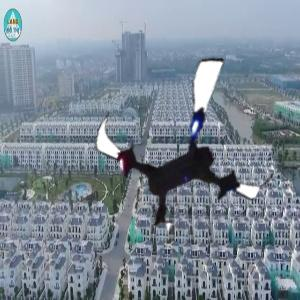drone: (91, 52, 282, 243)
